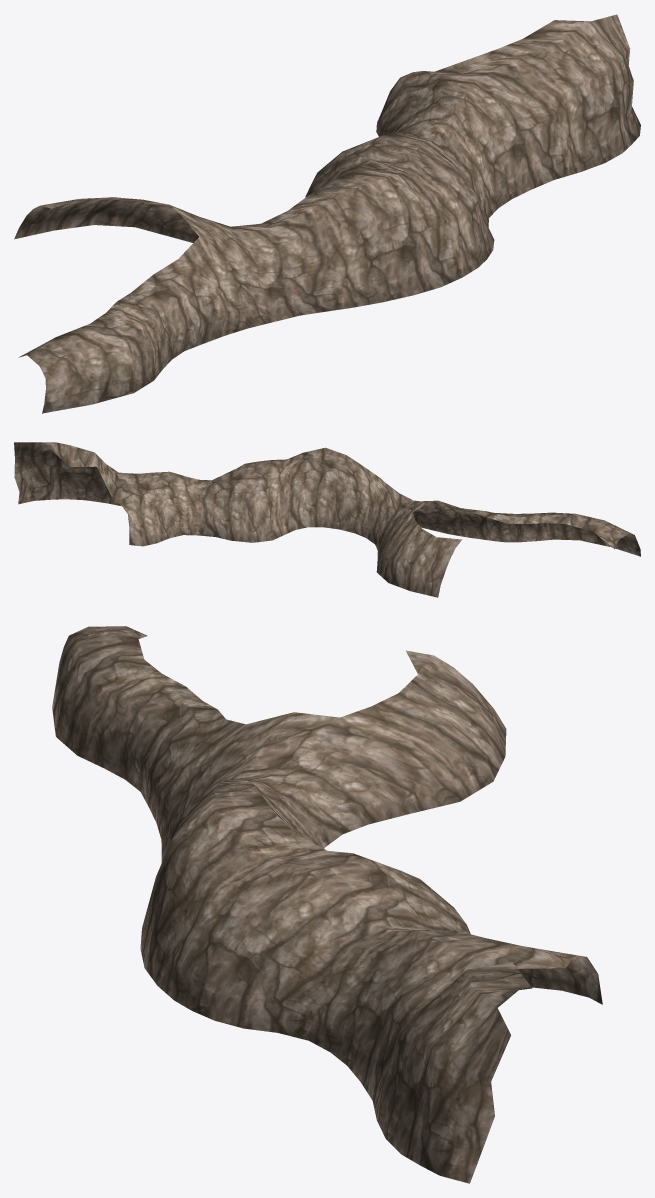
Rendered from EKH_GROTTO_PS_GR_OBJECT26.fbx.
3 renders of one model, top to bottom at view 1: azimuth 30°, elevation 25°; view 2: azimuth 150°, elevation 25°; view 3: azimuth 270°, elevation 25°, orthographic. The views are drawn at different scales.
Parts seen in each view (by area): view 1: EKH_GROTTO_PS_GR_OBJECT26; view 2: EKH_GROTTO_PS_GR_OBJECT26; view 3: EKH_GROTTO_PS_GR_OBJECT26.
Part boxes in pixels (x1,y1,x2,y2): EKH_GROTTO_PS_GR_OBJECT26: (14,14,640,413); EKH_GROTTO_PS_GR_OBJECT26: (14,442,640,597); EKH_GROTTO_PS_GR_OBJECT26: (52,626,602,1183).
Size of the model in its own units: 425559 by 58752 by 194834.
1 material, 1 textured.
